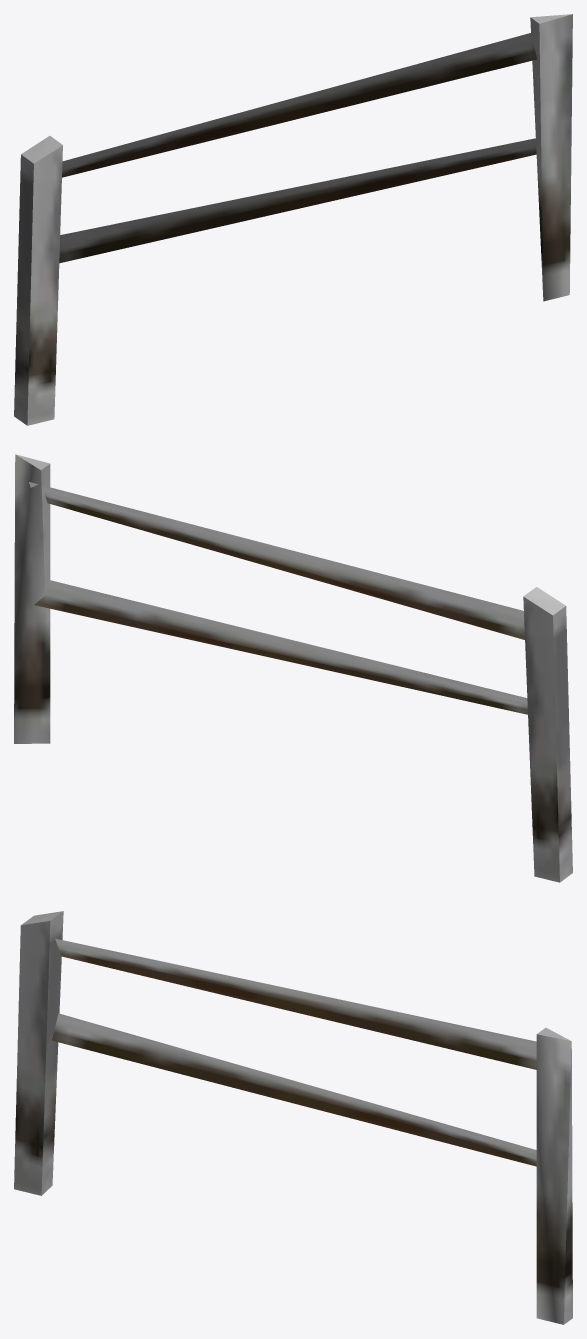
The model's file is general_obj_fence01_lod_01.fbx.
3 views of the same model, one above another, from view 1: azimuth 30°, elevation 25°; view 2: azimuth 150°, elevation 25°; view 3: azimuth 330°, elevation 25° (orthographic).
Parts seen in each view (by area): view 1: Sphere01; view 2: Sphere01; view 3: Sphere01.
Part boxes in pixels (<box>): Sphere01: <box>14,14,572,425</box>; Sphere01: <box>14,454,572,882</box>; Sphere01: <box>14,911,572,1324</box>.
Bounding box in the file's own units: 4.44 × 2.16 × 0.2065.
